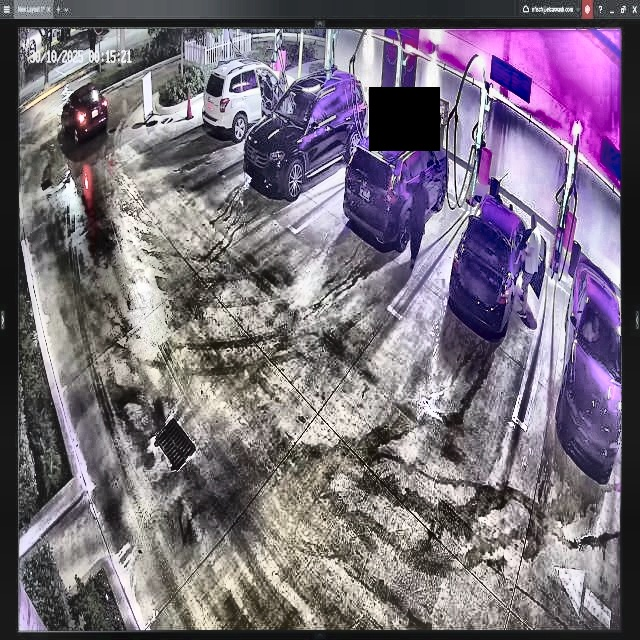Car: (248, 66, 362, 207), (345, 110, 445, 248), (451, 195, 545, 331)
